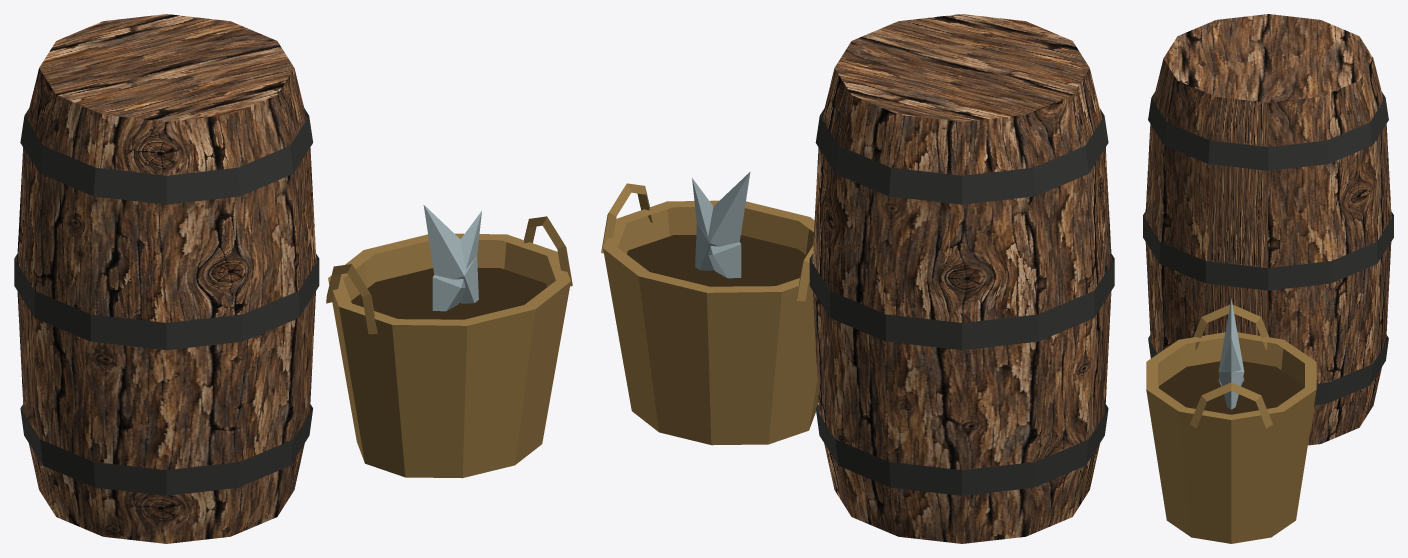
Rendered from lake01-props.glb.
The picture shows the model from 3 angles, left to right: view 1: azimuth 30°, elevation 25°; view 2: azimuth 150°, elevation 25°; view 3: azimuth 270°, elevation 25°; orthographic projection. The views are drawn at different scales.
Visible parts, largest first — view 1: barrel, basket, hoops, basketin, fish, handles; view 2: barrel, basket, hoops, basketin, fish, handles; view 3: barrel, basket, hoops, basketin, handles, fish.
Boxes of the visible parts, x1,y1,x2,y2 form: barrel: (17, 14, 316, 543); basket: (328, 233, 570, 478); hoops: (14, 108, 319, 495); basketin: (351, 267, 546, 319); fish: (423, 205, 481, 311); handles: (326, 216, 572, 334); barrel: (812, 14, 1111, 543); basket: (603, 200, 818, 445); hoops: (809, 108, 1114, 495); basketin: (627, 235, 806, 286); fish: (692, 172, 750, 278); handles: (601, 183, 813, 301); barrel: (1145, 14, 1391, 445); basket: (1146, 332, 1316, 543); hoops: (1143, 92, 1393, 405); basketin: (1159, 361, 1303, 414); handles: (1190, 305, 1272, 428); fish: (1218, 298, 1244, 409).
Bounding box in the file's own units: 0.7731 × 0.62 × 0.4062.
Materials: 5 (1 with a texture image).
